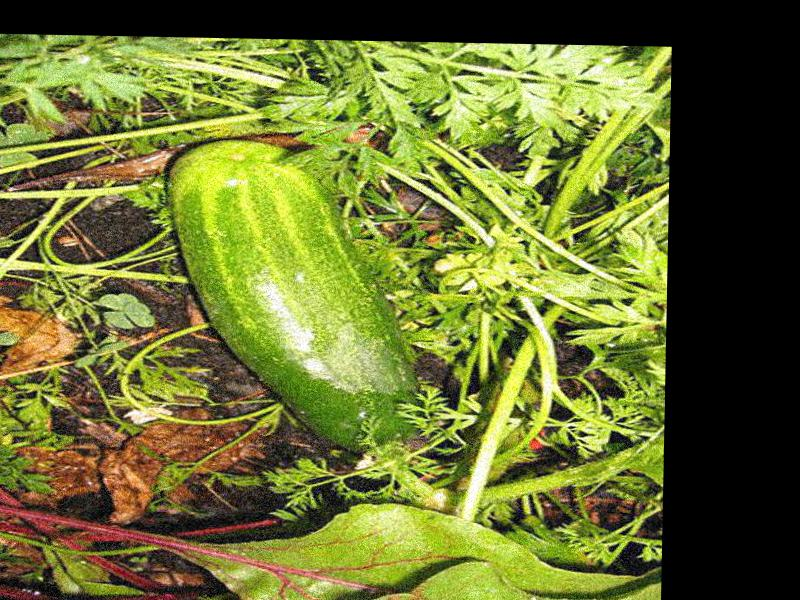Cucumber: (160, 143, 435, 453)
